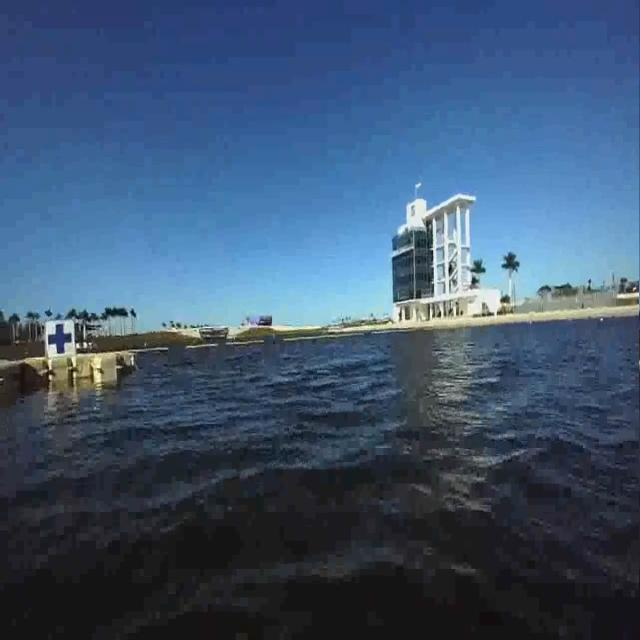blue-cross: (42, 319, 78, 361)
